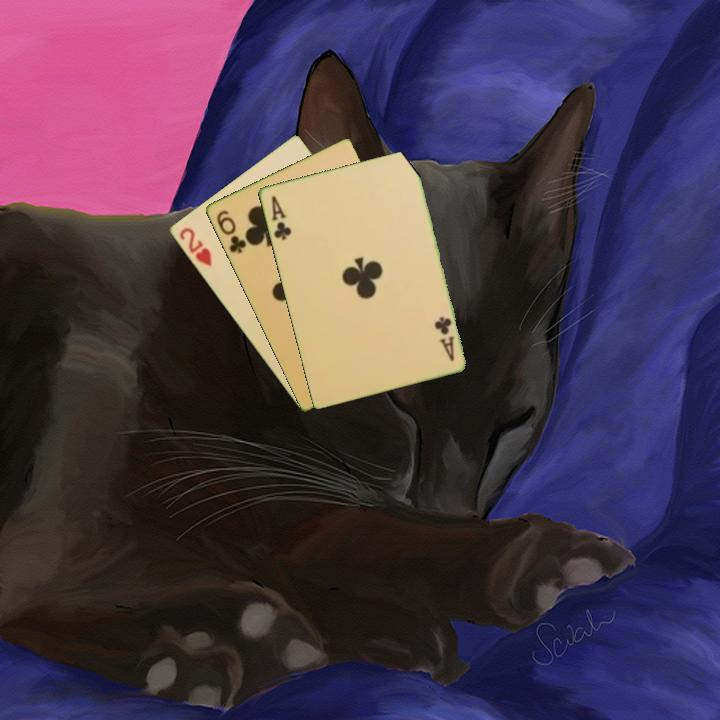2h: (175, 224, 214, 270)
6c: (213, 207, 249, 256)
Ac: (431, 312, 457, 364), (268, 192, 294, 242)
